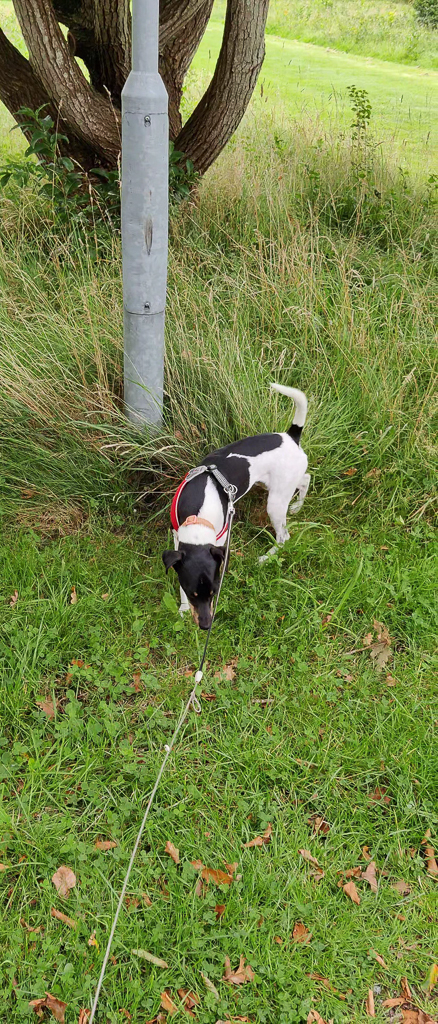Dog: (146, 379, 322, 638)
